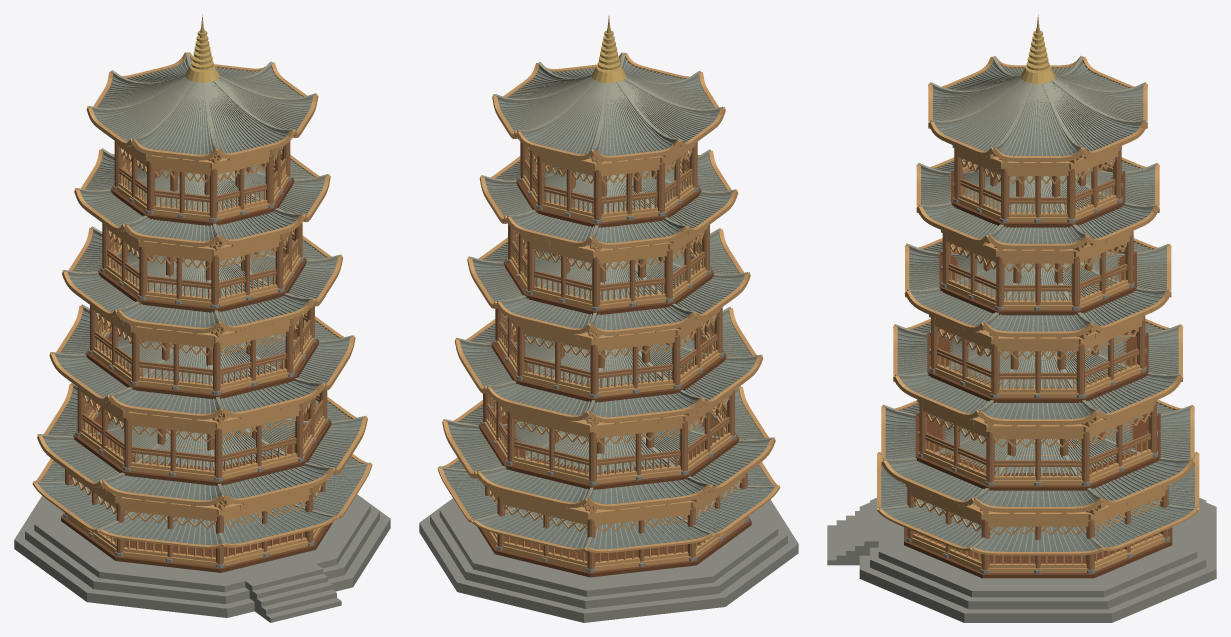
The model's file is yingxian-tower.glb.
The picture shows the model from 3 angles, left to right: view 1: azimuth 30°, elevation 25°; view 2: azimuth 150°, elevation 25°; view 3: azimuth 270°, elevation 25°; orthographic projection.
Visible parts, largest first — view 1: Base_stone, Roof_5_tile_edge, Roof_1_tile_edge, Roof_2_tile_edge, Roof_3_tile_edge, Roof_4_tile_edge, LowerEave_roof_tile, Roof_1_roof_tile, Roof_2_roof_tile, Outer_2_golden_wood, Outer_1_golden_wood, Outer_3_golden_wood (+33 smaller); view 2: Base_stone, Roof_5_tile_edge, Roof_1_tile_edge, Roof_2_tile_edge, Roof_3_tile_edge, Roof_4_tile_edge, LowerEave_roof_tile, Roof_1_roof_tile, Roof_2_roof_tile, Outer_2_golden_wood, Outer_1_golden_wood, Outer_3_golden_wood (+33 smaller); view 3: Base_stone, Roof_5_tile_edge, Roof_1_tile_edge, Roof_2_tile_edge, Roof_3_tile_edge, Roof_4_tile_edge, Roof_1_roof_tile, LowerEave_roof_tile, Roof_2_roof_tile, Outer_1_golden_wood, Roof_3_roof_tile, Outer_2_golden_wood (+33 smaller).
Boxes of the visible parts, x1,y1,x2,y2 form: Base_stone: [14, 494, 390, 622]; Roof_5_tile_edge: [89, 52, 315, 154]; Roof_1_tile_edge: [39, 383, 365, 500]; Roof_2_tile_edge: [51, 305, 352, 413]; Roof_3_tile_edge: [64, 226, 340, 327]; Roof_4_tile_edge: [76, 148, 328, 240]; LowerEave_roof_tile: [39, 457, 366, 544]; Roof_1_roof_tile: [44, 388, 361, 500]; Roof_2_roof_tile: [56, 310, 349, 413]; Outer_2_golden_wood: [79, 389, 324, 475]; Outer_1_golden_wood: [67, 471, 326, 561]; Outer_3_golden_wood: [92, 306, 311, 388]; Base_stone: [419, 498, 798, 622]; Roof_5_tile_edge: [494, 52, 723, 155]; Roof_1_tile_edge: [444, 386, 773, 504]; Roof_2_tile_edge: [457, 307, 760, 417]; Roof_3_tile_edge: [469, 228, 748, 329]; Roof_4_tile_edge: [482, 150, 735, 242]; LowerEave_roof_tile: [443, 461, 773, 549]; Roof_1_roof_tile: [448, 391, 768, 504]; Roof_2_roof_tile: [460, 312, 756, 417]; Outer_2_golden_wood: [486, 392, 732, 479]; Outer_1_golden_wood: [483, 474, 745, 566]; Outer_3_golden_wood: [498, 309, 720, 391]; Base_stone: [827, 497, 1216, 622]; Roof_5_tile_edge: [930, 56, 1145, 155]; Roof_1_tile_edge: [883, 403, 1192, 506]; Roof_2_tile_edge: [895, 321, 1180, 419]; Roof_3_tile_edge: [907, 242, 1169, 331]; Roof_4_tile_edge: [918, 160, 1157, 243]; Roof_1_roof_tile: [885, 404, 1190, 511]; LowerEave_roof_tile: [881, 456, 1194, 551]; Roof_2_roof_tile: [897, 323, 1178, 423]; Outer_1_golden_wood: [908, 486, 1167, 567]; Roof_3_roof_tile: [909, 243, 1166, 336]; Outer_2_golden_wood: [920, 401, 1155, 480].
Bounding box in the file's own units: 8.13 × 13.41 × 8.87.
